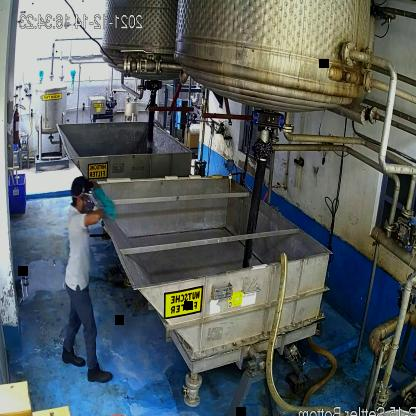shoes: (58, 342, 88, 369), (85, 362, 113, 388)
